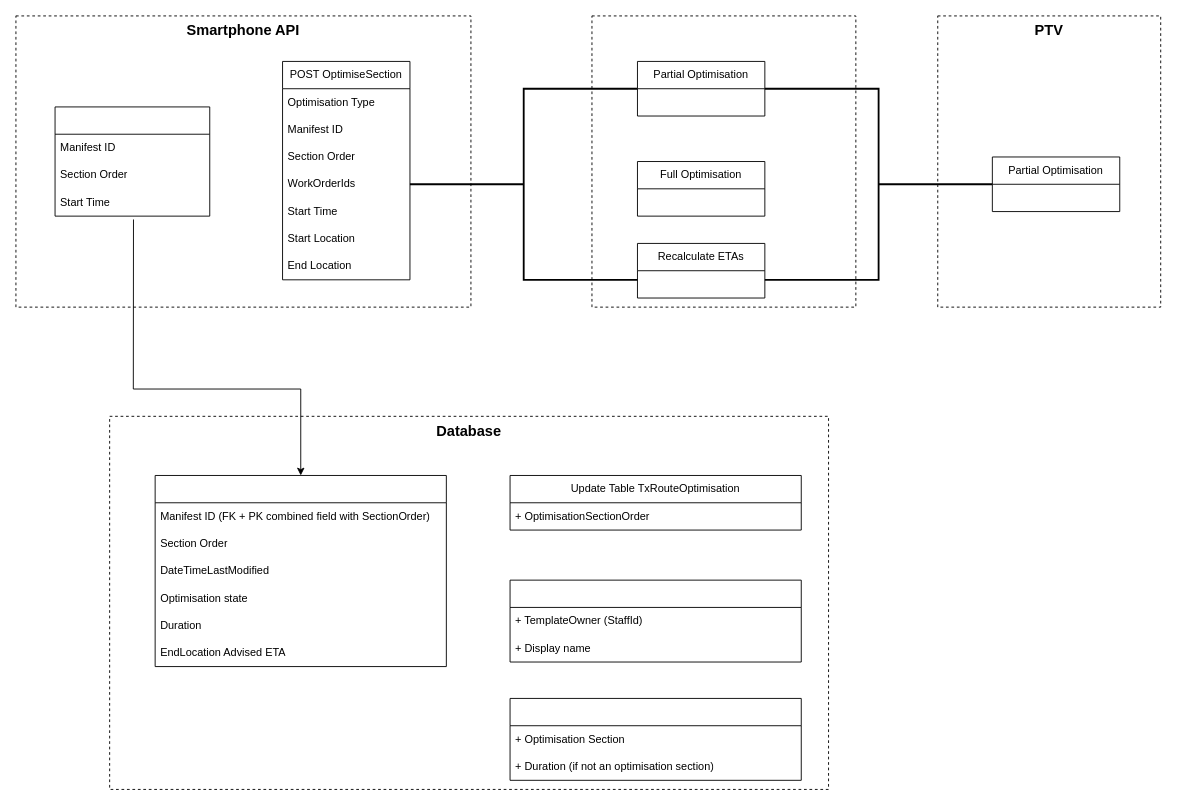
This 1177x805 diagram has some shape labels left out. The box of each missing label's shape, as (x1, y1, x2, y2) in pixels:
Get OptimiseSectionResults: (54, 106, 210, 216)
New Table ManifestSection: (154, 475, 446, 667)
Route Optimisation Service: (591, 15, 856, 307)
Update Table RouteOptimisationSection: (509, 698, 801, 780)
Update Table RouteSectionCategory: (509, 579, 801, 662)
